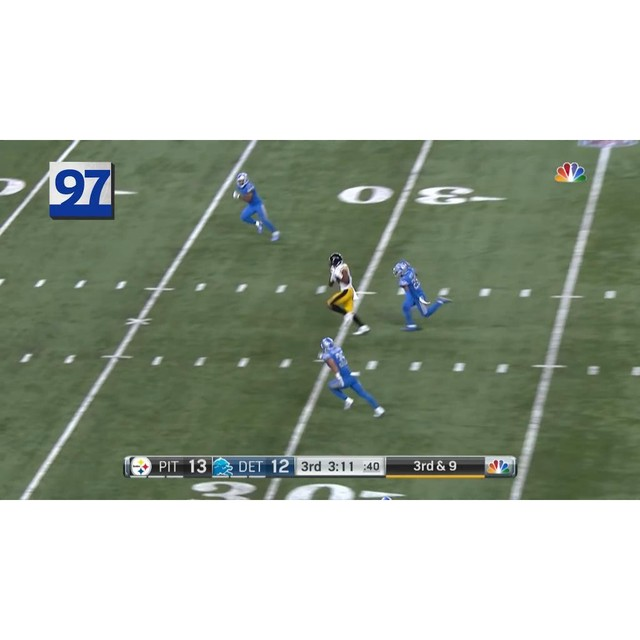american-football-player: (315, 336, 383, 416), (317, 252, 372, 335), (392, 260, 450, 330), (232, 172, 280, 240)
